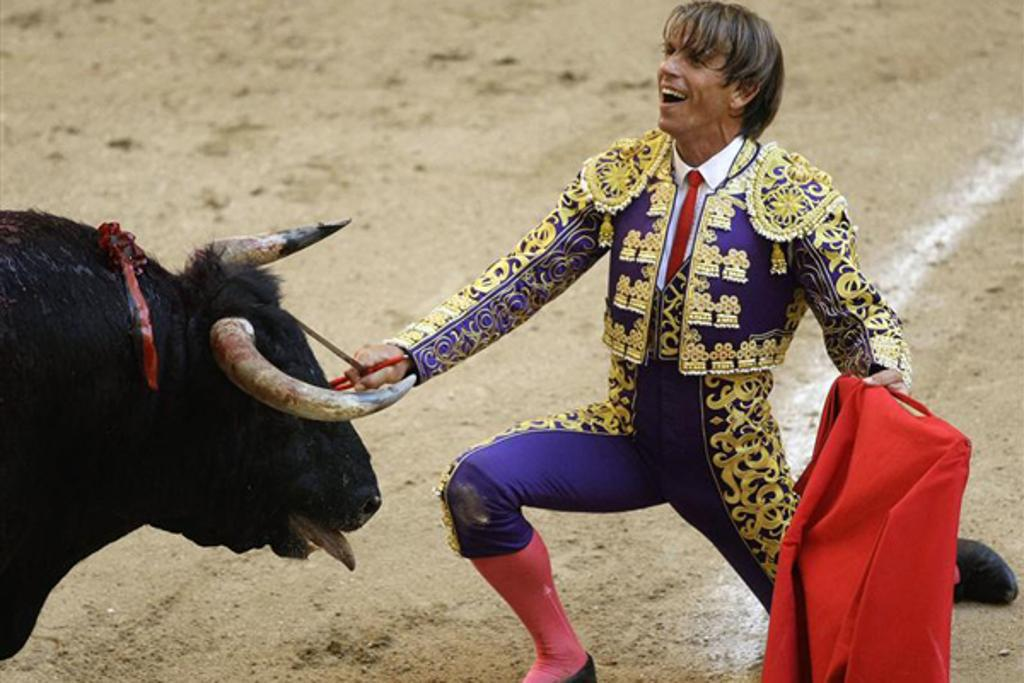face: (657, 17, 743, 129)
